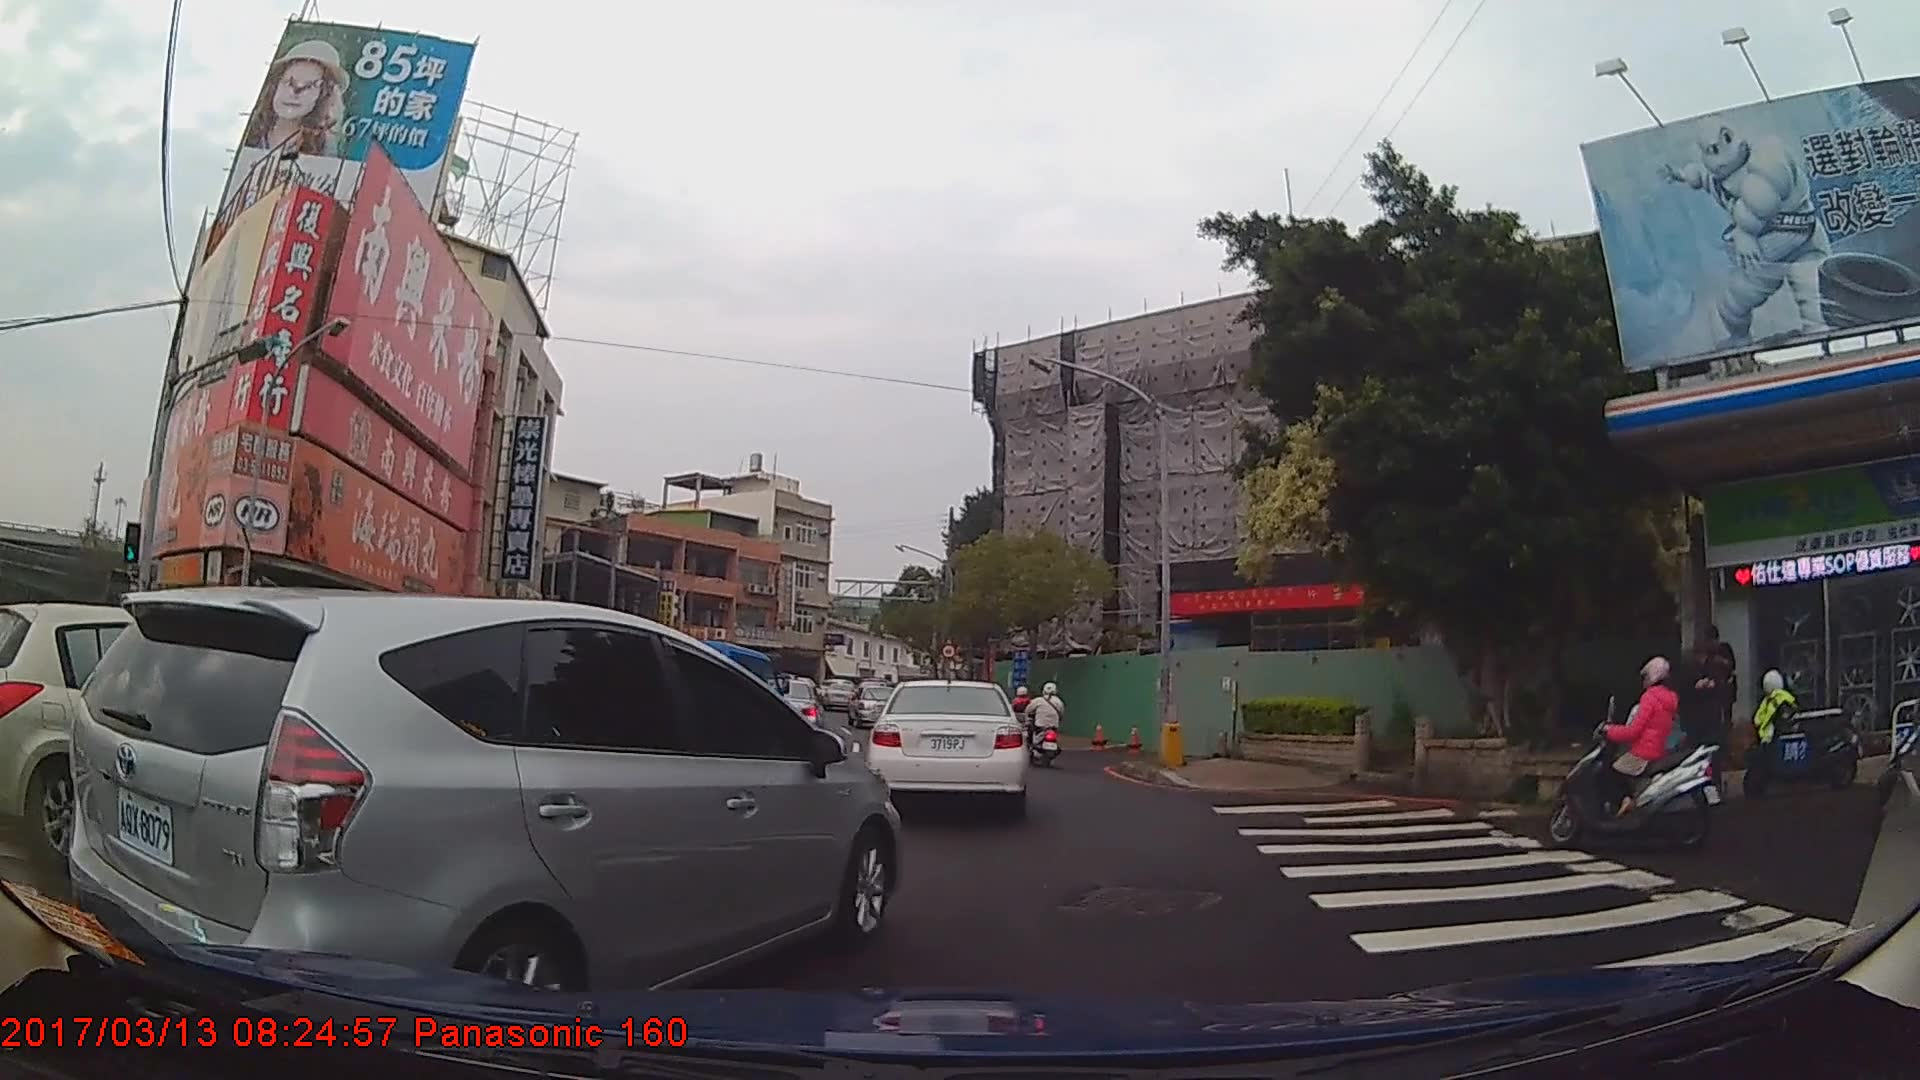pedestrian: (1684, 633, 1740, 810), (1695, 621, 1744, 748)
rider: (1536, 658, 1720, 849), (1031, 680, 1066, 766)
vehicle: (64, 583, 908, 1032), (0, 599, 423, 871), (866, 678, 1031, 820)
